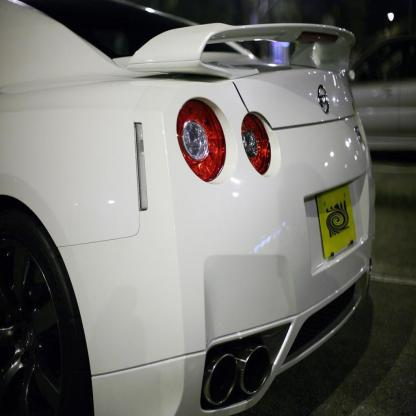Car: (7, 0, 379, 415)
